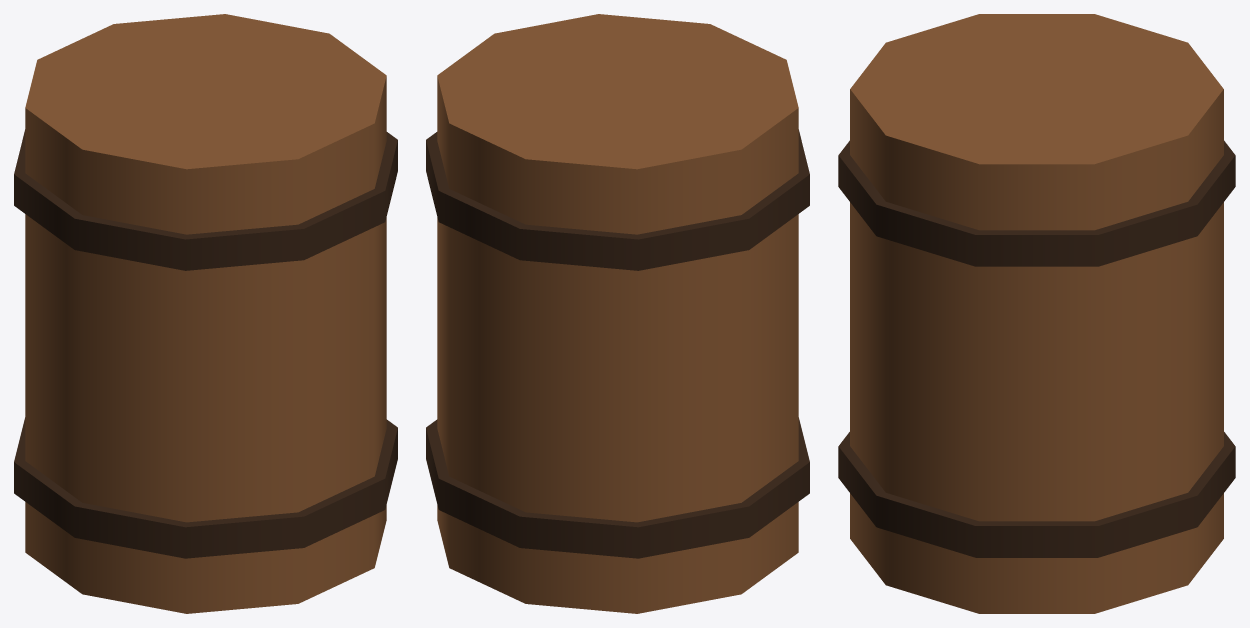
File: f_barrel.glb
The picture shows the model from 3 angles, left to right: view 1: azimuth 30°, elevation 25°; view 2: azimuth 150°, elevation 25°; view 3: azimuth 270°, elevation 25°; orthographic projection.
Parts seen in each view (by area): view 1: barrel; view 2: barrel; view 3: barrel.
Part boxes in pixels (x1,y1,x2,y2): barrel: (14,14,397,613); barrel: (426,14,809,613); barrel: (838,14,1235,613).
Bounding box in the file's own units: 0.6467 × 0.85 × 0.68.
